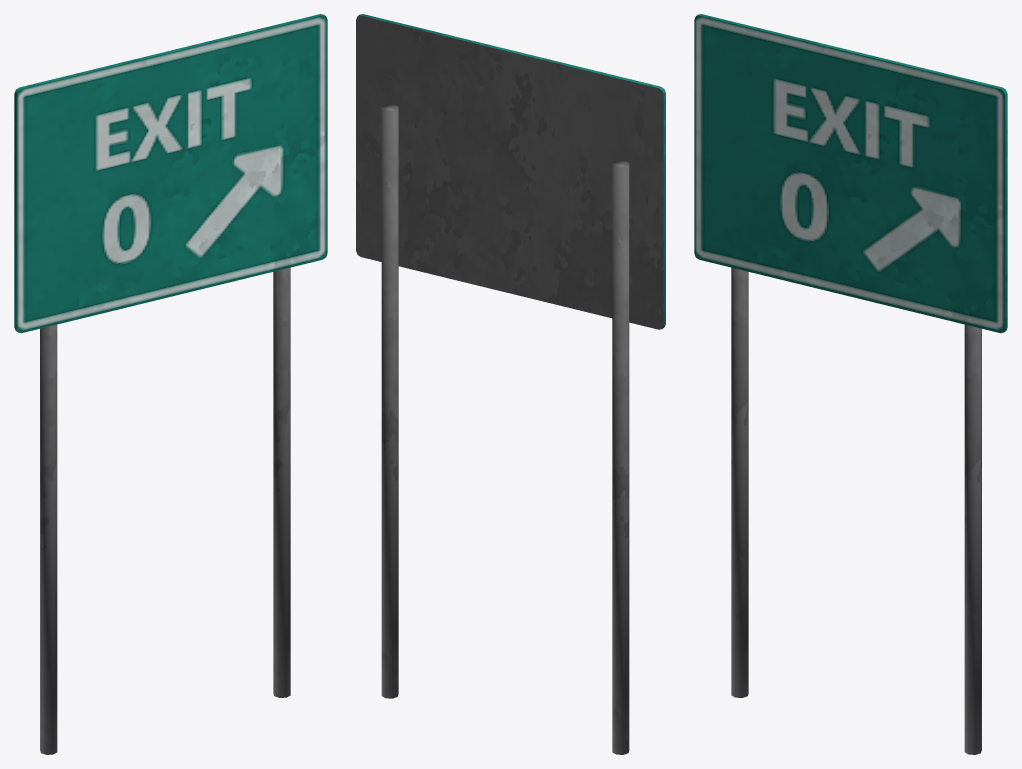
The model's file is Sign_08.glb.
3 renders of one model, left to right at view 1: azimuth 30°, elevation 25°; view 2: azimuth 150°, elevation 25°; view 3: azimuth 330°, elevation 25°, orthographic.
Visible parts, largest first — view 1: Sign_08.001; view 2: Sign_08.001; view 3: Sign_08.001.
Boxes of the visible parts, x1,y1,x2,y2 form: Sign_08.001: [14, 14, 327, 754]; Sign_08.001: [356, 14, 665, 754]; Sign_08.001: [694, 14, 1007, 754].
Bounding box in the file's own units: 0.8 × 1.66 × 0.05.
Materials: 1 (1 with a texture image).
